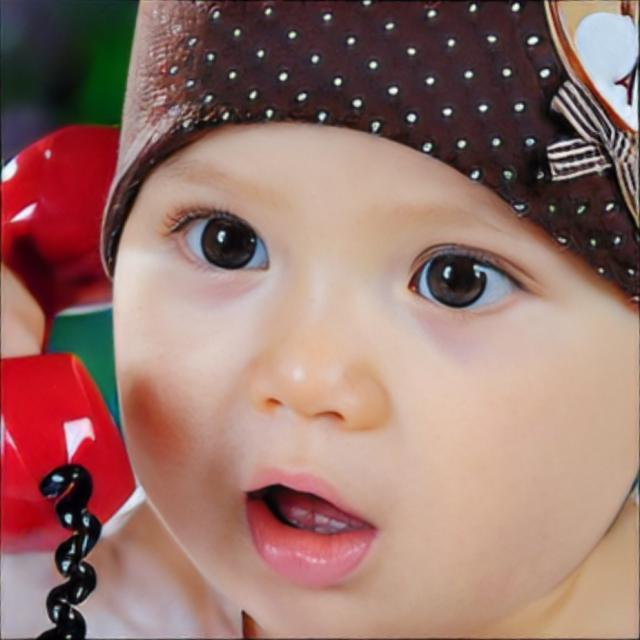surprise: (109, 121, 640, 639)
